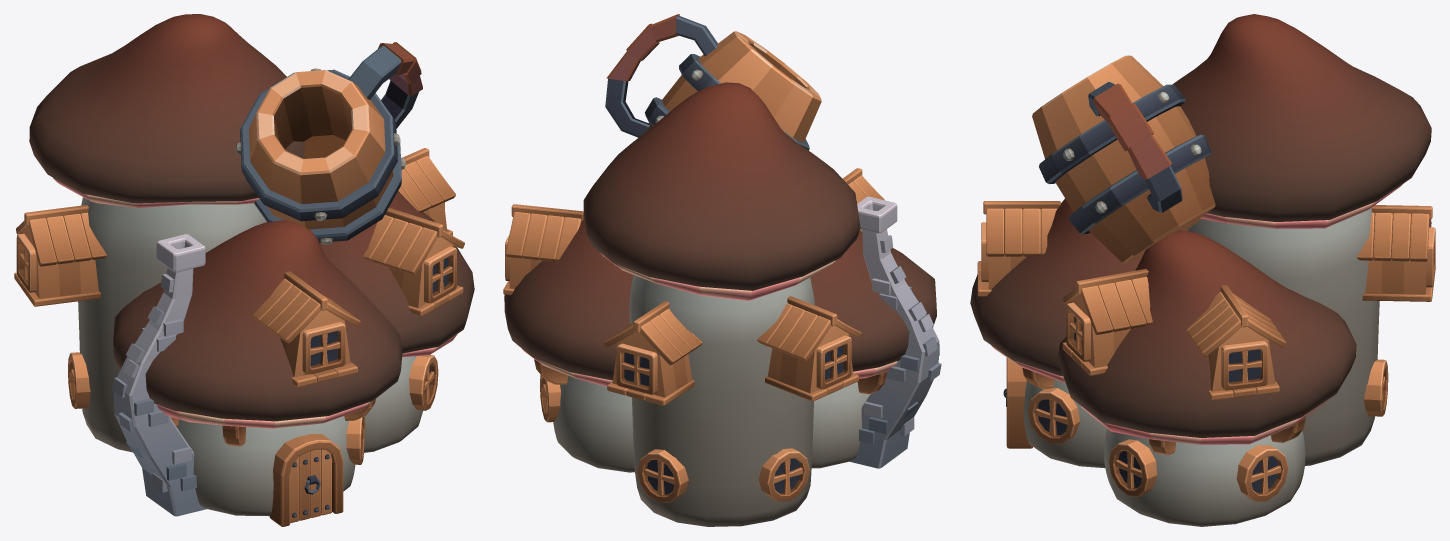
File: mt_house18.fbx
3 views of the same model, side by side, from view 1: azimuth 30°, elevation 25°; view 2: azimuth 150°, elevation 25°; view 3: azimuth 270°, elevation 25° (orthographic). The views are drawn at different scales.
Parts seen in each view (by area): view 1: h18; view 2: h18; view 3: h18.
Part boxes in pixels (x1,y1,x2,y2): h18: (14,14,474,526); h18: (503,14,941,526); h18: (970,14,1435,526).
Bounding box in the file's own units: 1041 × 1056 × 1068.
